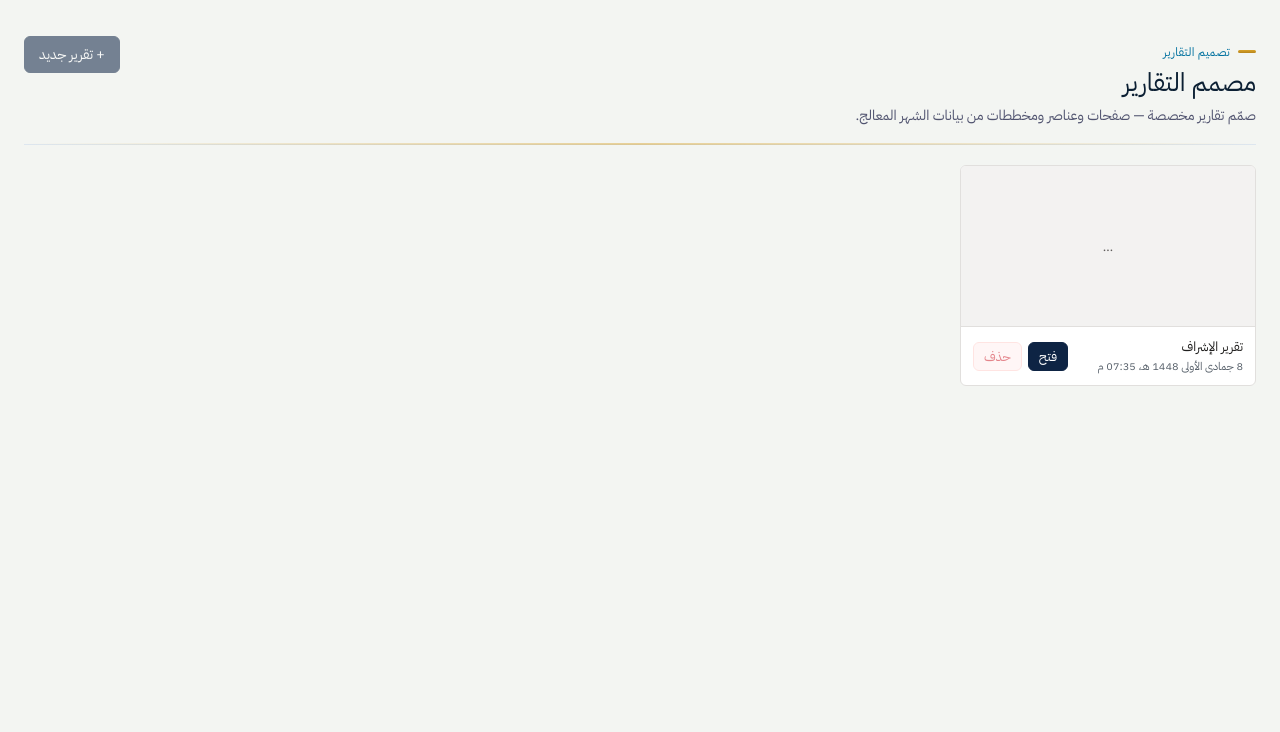
Test: ReportDesigner — B6 view vs edit gating › view-only (canEdit=false): open/thumbnail/print reachable, create/delete blocked
The image size is (1280, 732).
Expected: the text "تقرير الإشراف" is shown, [1182, 337, 1243, 356]
Expected: the button "+ تقرير جديد" is disabled, [24, 36, 120, 73]
Click the button "فتح" at x=1048, y=356, box [1028, 342, 1068, 371]
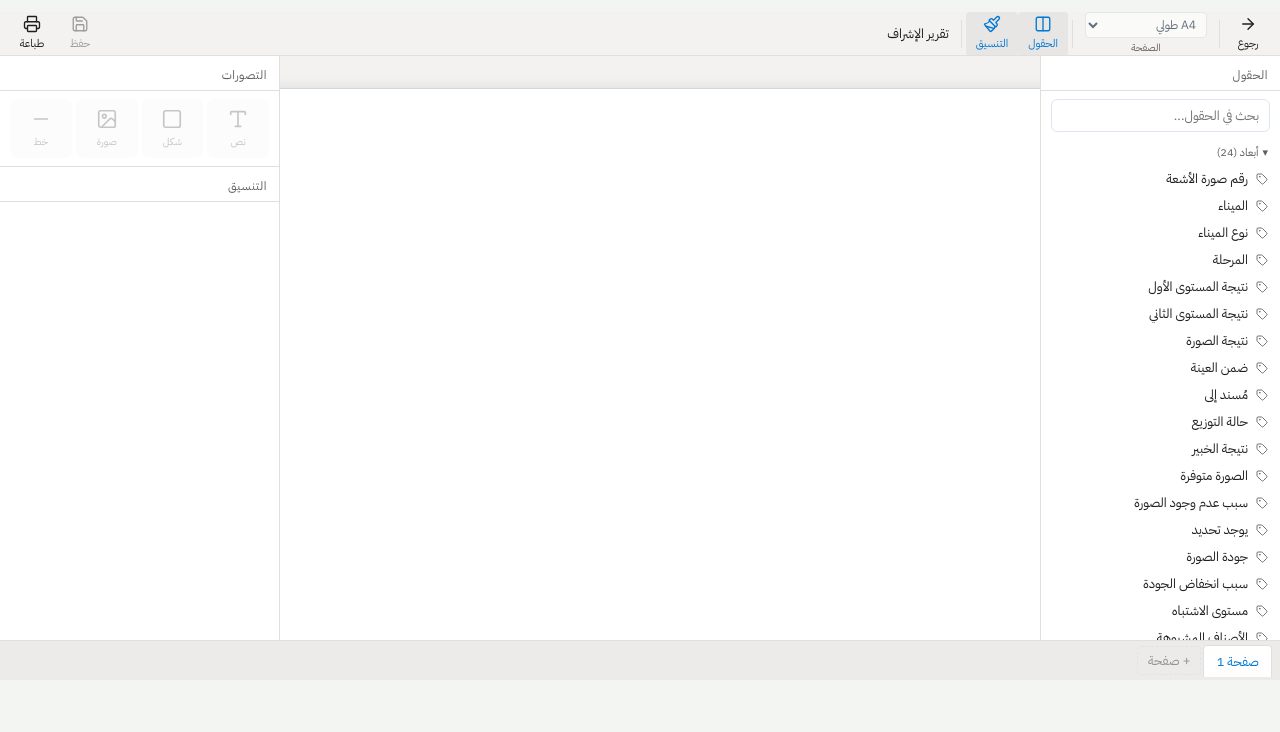
Result: the button titled "طباعة" is enabled at [8, 12, 56, 56]
Result: the button "حفظ" is disabled at [56, 12, 104, 56]
Result: the button "+ صفحة" is disabled at [1137, 646, 1201, 675]
